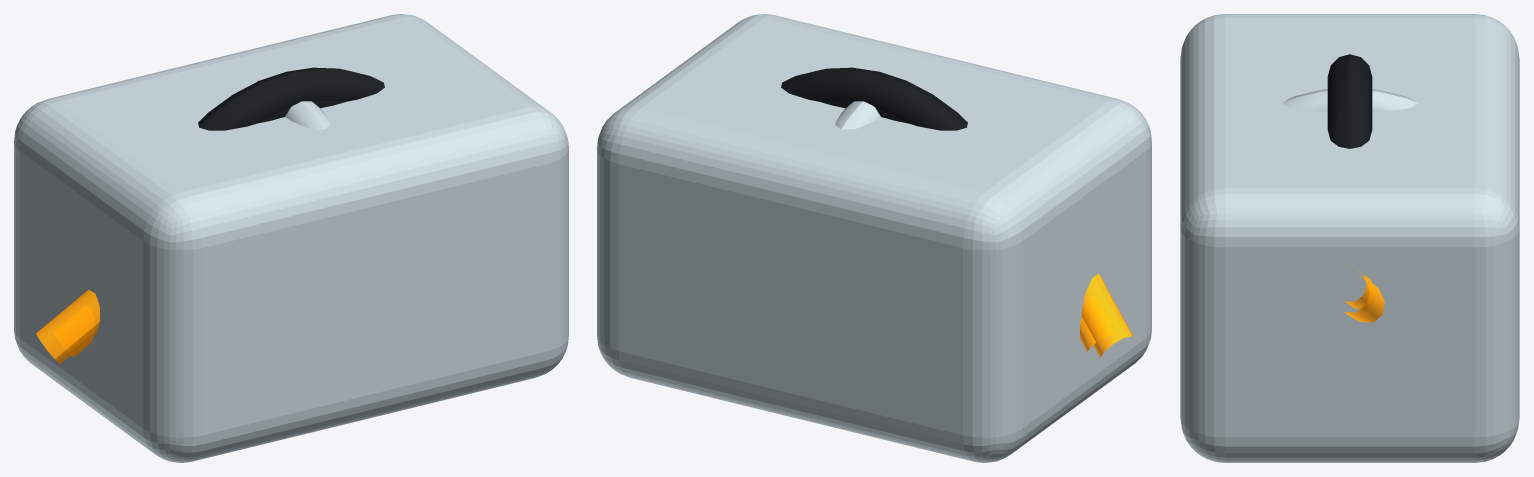
The model's file is remaining_systems_03.glb.
3 renders of one model, left to right at view 1: azimuth 30°, elevation 25°; view 2: azimuth 150°, elevation 25°; view 3: azimuth 270°, elevation 25°, orthographic.
Visible parts, largest first — view 1: asset_mesh__remaining_systems_0278__reference_body, asset_mesh__remaining_systems_0332__service_element, asset_mesh__remaining_systems_0410__fluid_path, asset_mesh__remaining_systems_0375__functional_ring; view 2: asset_mesh__remaining_systems_0278__reference_body, asset_mesh__remaining_systems_0332__service_element, asset_mesh__remaining_systems_0410__fluid_path, asset_mesh__remaining_systems_0375__functional_ring; view 3: asset_mesh__remaining_systems_0278__reference_body, asset_mesh__remaining_systems_0332__service_element, asset_mesh__remaining_systems_0375__functional_ring, asset_mesh__remaining_systems_0410__fluid_path.
Part boxes in pixels (x1=…): asset_mesh__remaining_systems_0278__reference_body: x1=14, y1=14, x2=568, y2=462; asset_mesh__remaining_systems_0332__service_element: x1=198, y1=67, x2=384, y2=130; asset_mesh__remaining_systems_0410__fluid_path: x1=36, y1=289, x2=99, y2=363; asset_mesh__remaining_systems_0375__functional_ring: x1=257, y1=80, x2=330, y2=129; asset_mesh__remaining_systems_0278__reference_body: x1=597, y1=14, x2=1151, y2=462; asset_mesh__remaining_systems_0332__service_element: x1=781, y1=67, x2=967, y2=130; asset_mesh__remaining_systems_0410__fluid_path: x1=1081, y1=273, x2=1133, y2=357; asset_mesh__remaining_systems_0375__functional_ring: x1=835, y1=80, x2=908, y2=129; asset_mesh__remaining_systems_0278__reference_body: x1=1180, y1=14, x2=1519, y2=462; asset_mesh__remaining_systems_0332__service_element: x1=1327, y1=54, x2=1372, y2=148; asset_mesh__remaining_systems_0375__functional_ring: x1=1282, y1=89, x2=1417, y2=111; asset_mesh__remaining_systems_0410__fluid_path: x1=1344, y1=274, x2=1384, y2=322.
Size of the model in its own units: 1.47 by 0.9164 by 0.84.
